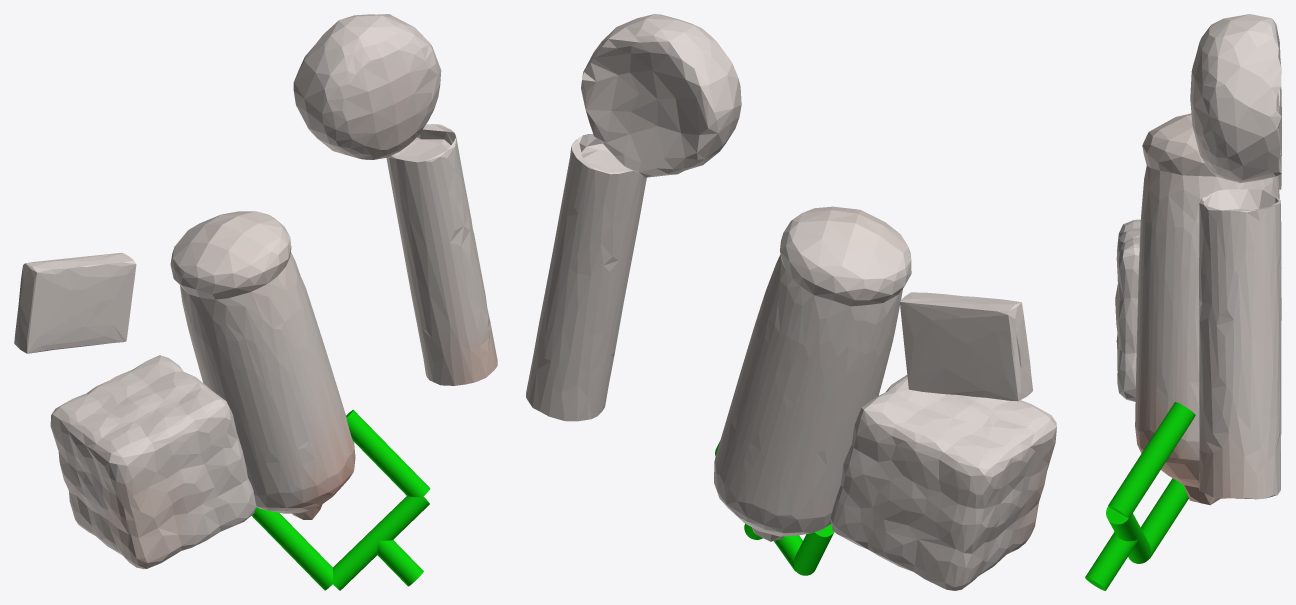
The model's file is round_000_trial_000.obj.
3 views of the same model, side by side, from view 1: azimuth 30°, elevation 25°; view 2: azimuth 150°, elevation 25°; view 3: azimuth 270°, elevation 25° (orthographic). The views are drawn at different scales.
Parts seen in each view (by area): view 1: geometry_0, geometry_1; view 2: geometry_0, geometry_1; view 3: geometry_0, geometry_1.
Part boxes in pixels (x1,y1,x2,y2): geometry_0: [14, 14, 497, 569]; geometry_1: [251, 409, 430, 590]; geometry_0: [526, 14, 1056, 590]; geometry_1: [715, 441, 834, 575]; geometry_0: [1115, 14, 1281, 505]; geometry_1: [1085, 402, 1195, 590].
Bounding box in the file's own units: 0.2415 × 0.2578 × 0.0789.
